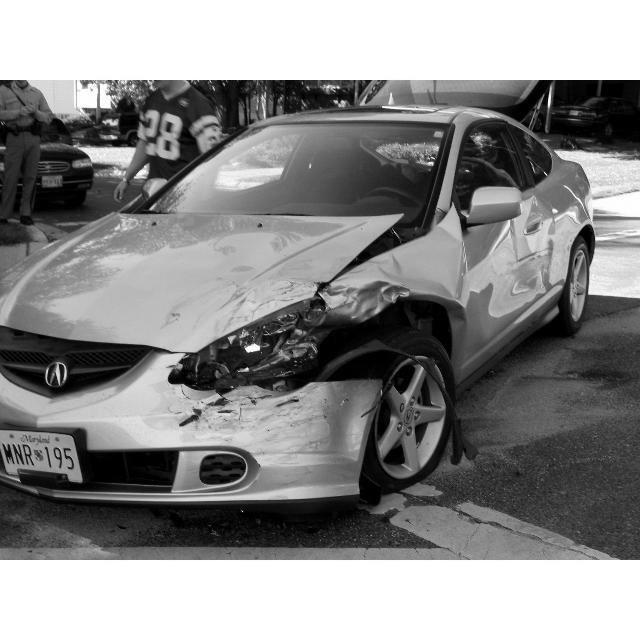Headlight-damage: (201, 303, 313, 391)
bonnet-dent: (160, 229, 307, 321)
fender-dent: (361, 229, 481, 322)
front-bumper-dent: (153, 392, 335, 500)
